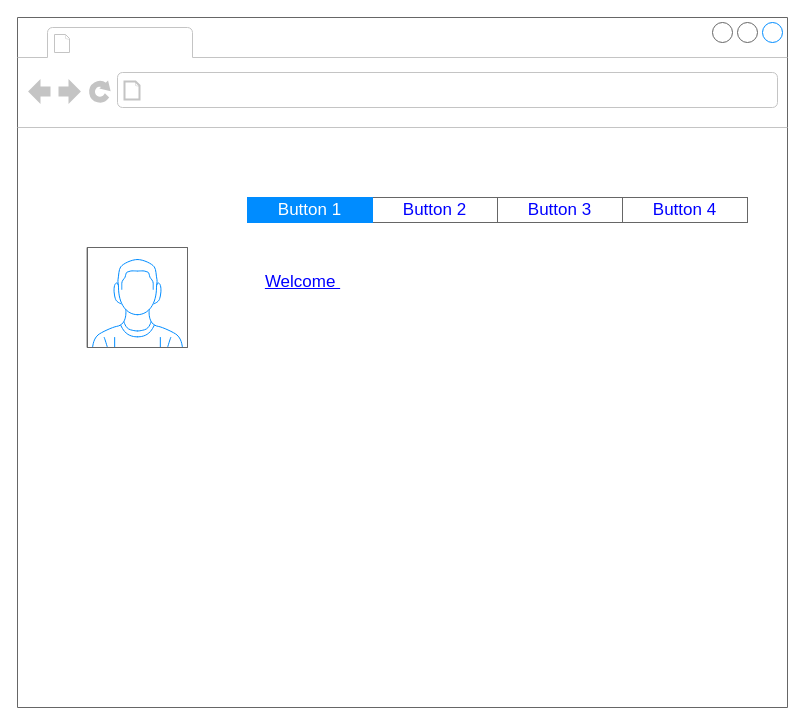
This 805x725 diagram has some shape labels left out. The shapes that lost their labels are listed below. From the top down, each one's centre as x and y in pixels, then its label:
the point at 132,42: Page 1
the point at 272,90: https://www.draw.io
